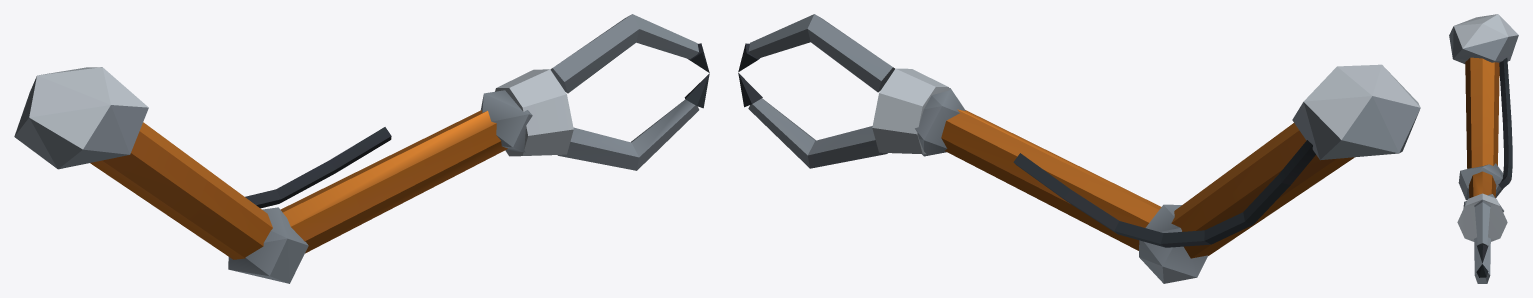
File: gd_submarine_arm.glb
3 renders of one model, left to right at view 1: azimuth 30°, elevation 25°; view 2: azimuth 150°, elevation 25°; view 3: azimuth 270°, elevation 25°, orthographic. The views are drawn at different scales.
Parts seen in each view (by area): view 1: base; view 2: base; view 3: base.
Boxes of the visible parts, x1,y1,x2,y2 form: base: [14, 14, 709, 283]; base: [738, 14, 1420, 283]; base: [1449, 14, 1518, 283].
Size of the model in its own units: 0.3356 by 0.1186 by 0.0554.
